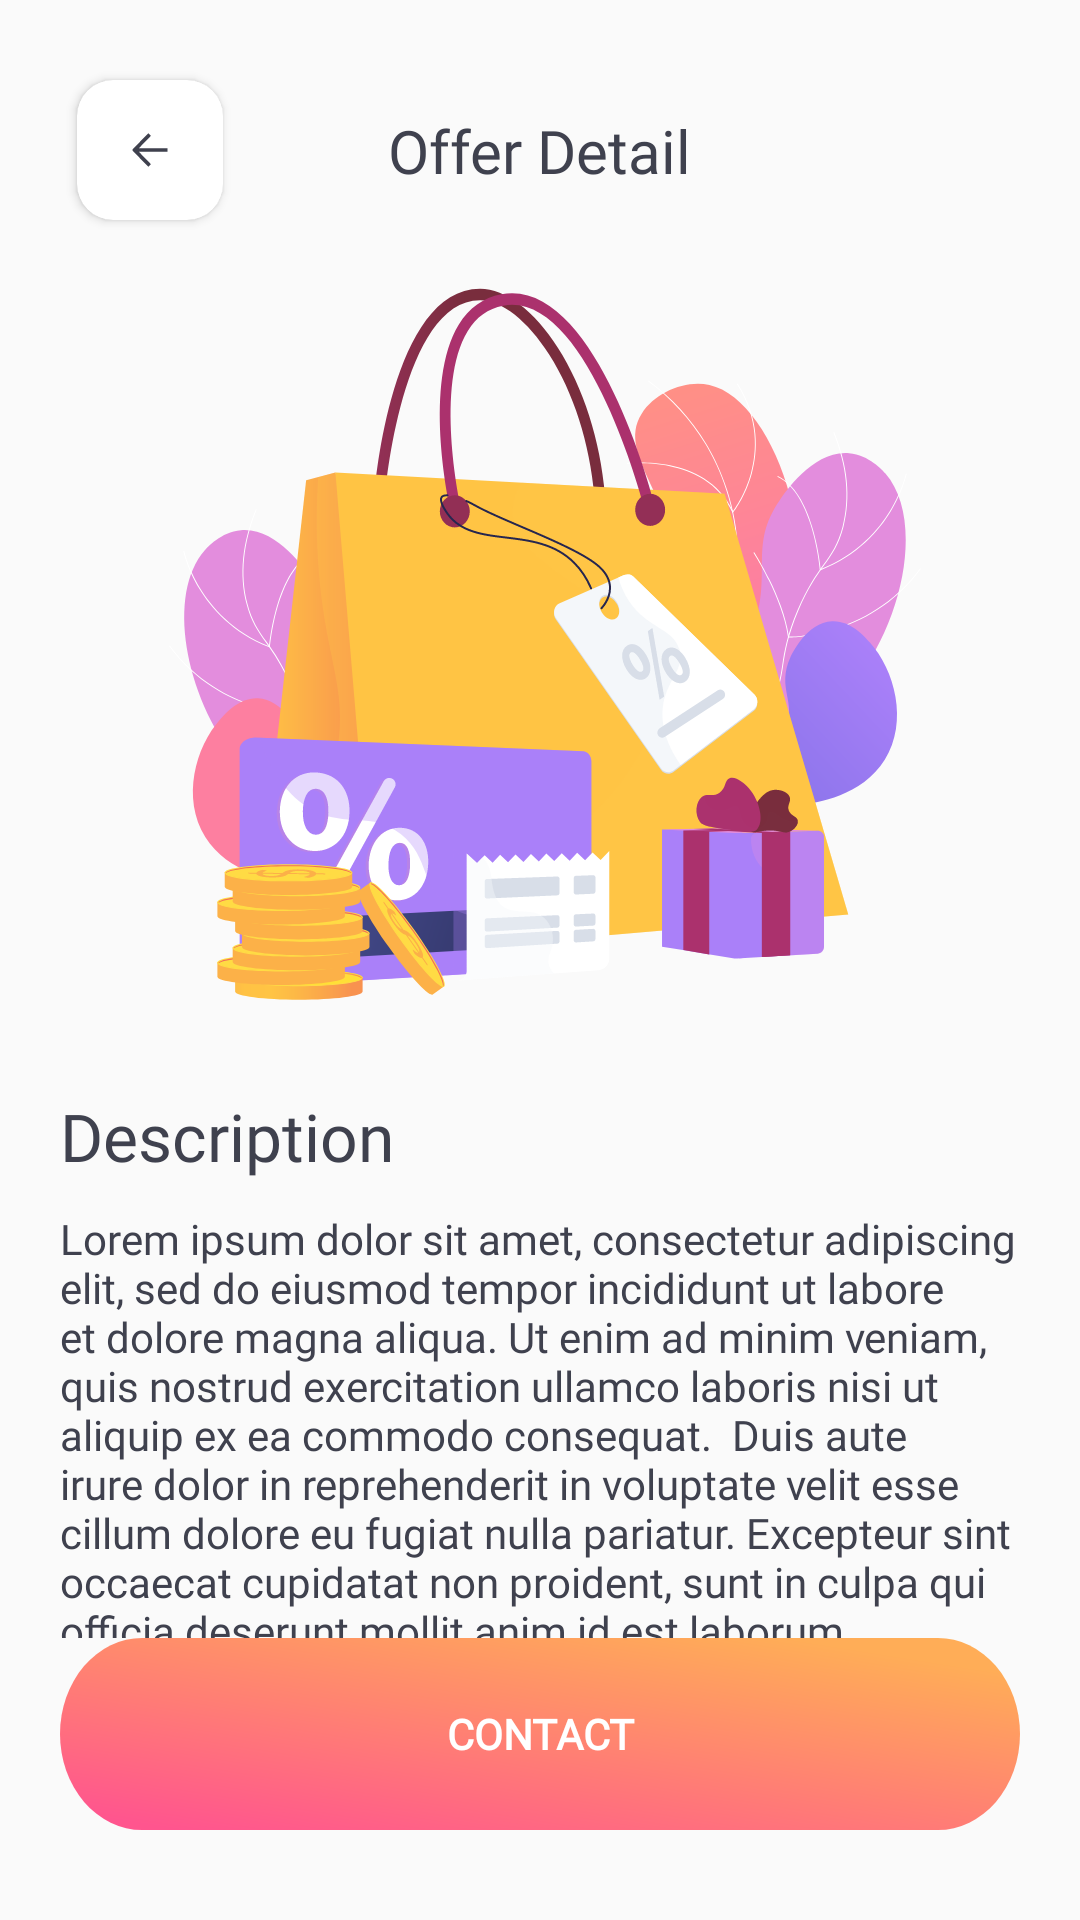

Icons on this 1080 x 1920 Android screen, each with the point to tap as [x,y]:
back: [150,150]
